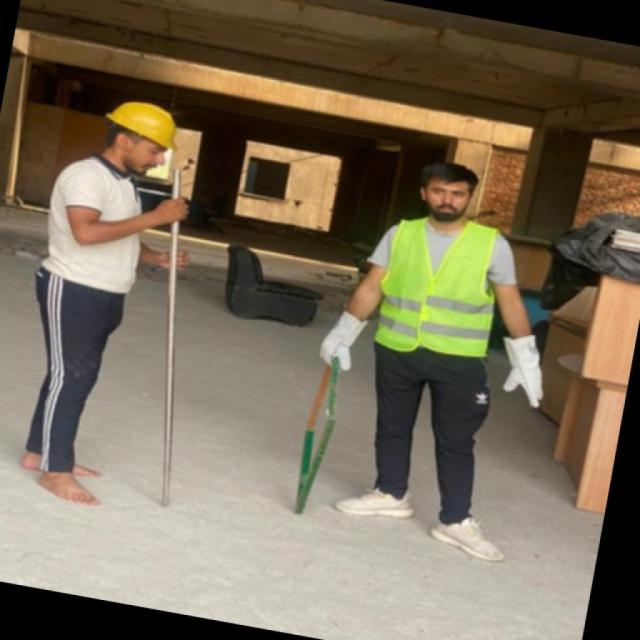Gloves-Detection: (498, 333, 558, 408), (316, 308, 364, 369)
